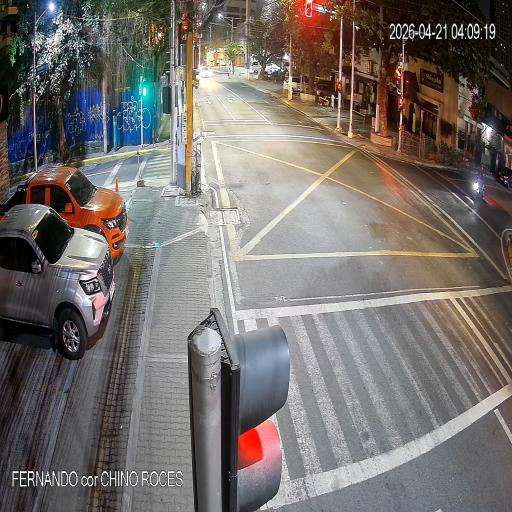Car: (0, 203, 136, 370), (14, 163, 132, 280), (283, 68, 308, 96), (250, 58, 262, 78)
Motor: (472, 158, 490, 216)
